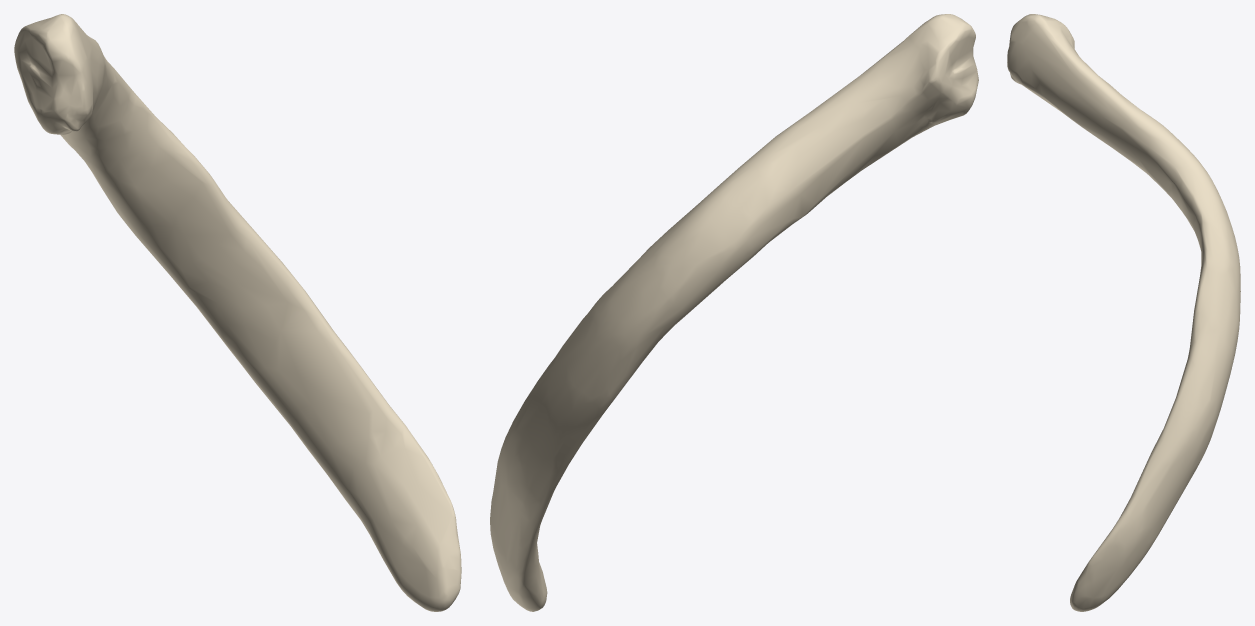
The model's file is twelfth-rib-l.glb.
The picture shows the model from 3 angles, left to right: view 1: azimuth 30°, elevation 25°; view 2: azimuth 150°, elevation 25°; view 3: azimuth 270°, elevation 25°; orthographic projection. The views are drawn at different scales.
Parts seen in each view (by area): view 1: Twelfth rib.l; view 2: Twelfth rib.l; view 3: Twelfth rib.l.
Part boxes in pixels (bbox=[...]): Twelfth rib.l: bbox=[14, 14, 461, 611]; Twelfth rib.l: bbox=[490, 14, 978, 611]; Twelfth rib.l: bbox=[1007, 14, 1240, 611].
Bounding box in the file's own units: 0.066 × 0.0979 × 0.0444.
